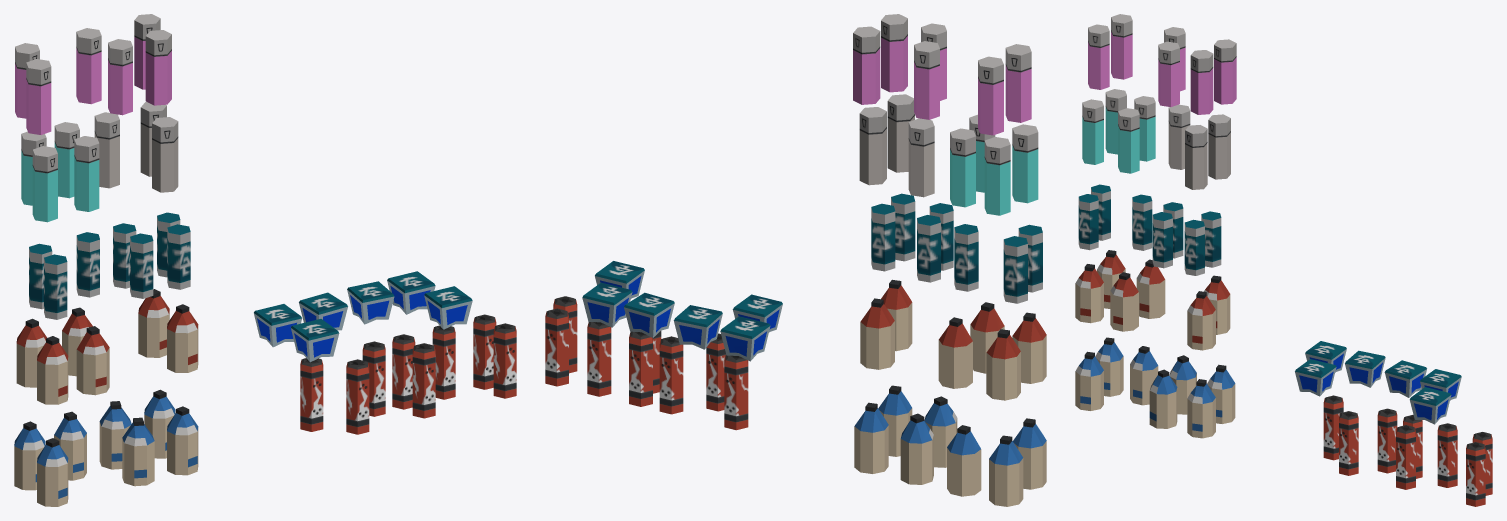
The model's file is SM_Prop_Fridge_01_Insert_01.fbx.
The picture shows the model from 3 angles, left to right: view 1: azimuth 30°, elevation 25°; view 2: azimuth 150°, elevation 25°; view 3: azimuth 330°, elevation 25°; orthographic projection. The views are drawn at different scales.
Parts seen in each view (by area): view 1: SM_Prop_Fridge_01_Insert_01; view 2: SM_Prop_Fridge_01_Insert_01; view 3: SM_Prop_Fridge_01_Insert_01.
Part boxes in pixels (x1,y1,x2,y2): SM_Prop_Fridge_01_Insert_01: (14, 14, 516, 506); SM_Prop_Fridge_01_Insert_01: (545, 14, 1046, 506); SM_Prop_Fridge_01_Insert_01: (1075, 14, 1492, 506).
Size of the model in its own units: 202 by 173 by 34.27.
